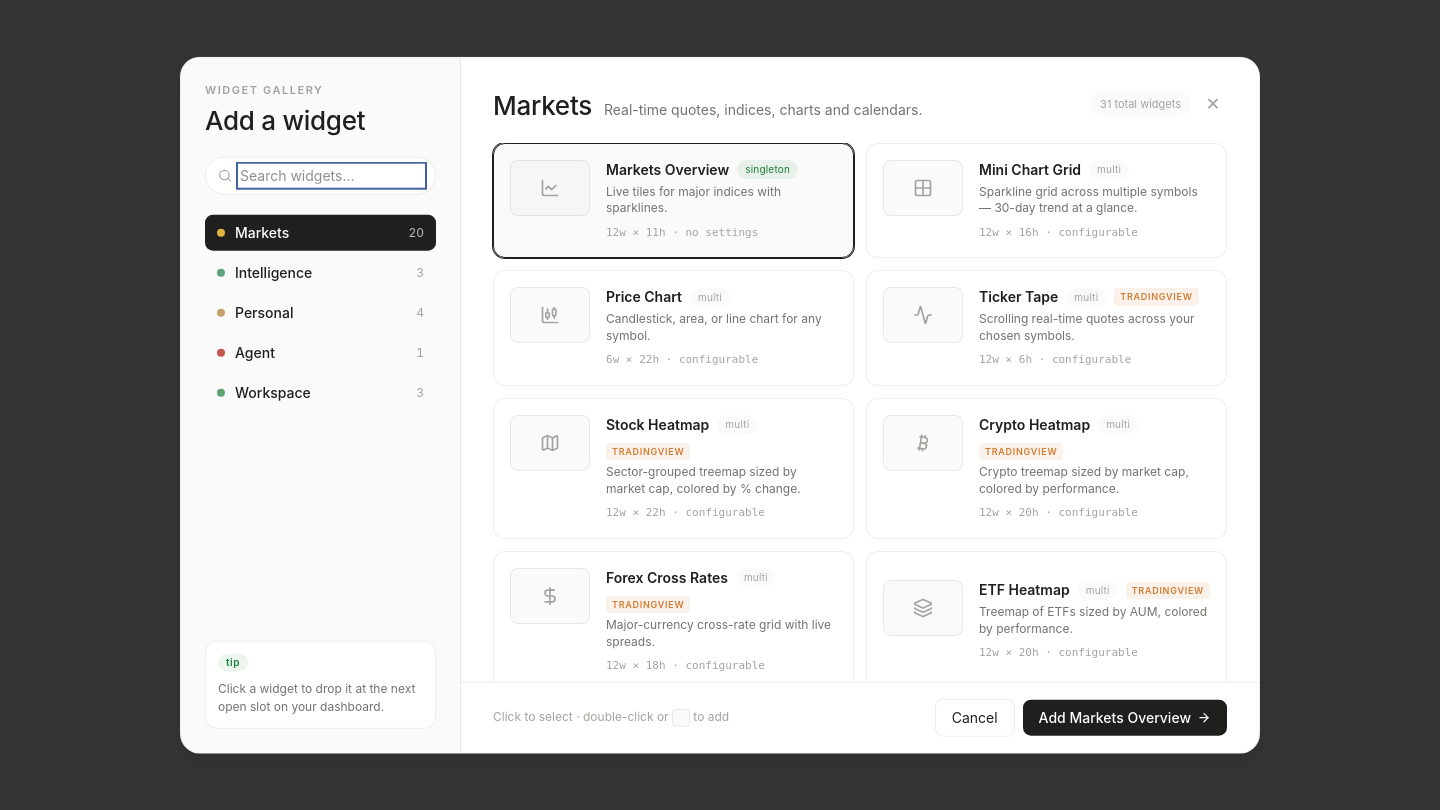
Scenario: AddWidgetDialog › filters widgets by search
In the field with placeholder "Search widgets…": (332, 176) [240,166,423,186], type "ticker tape"
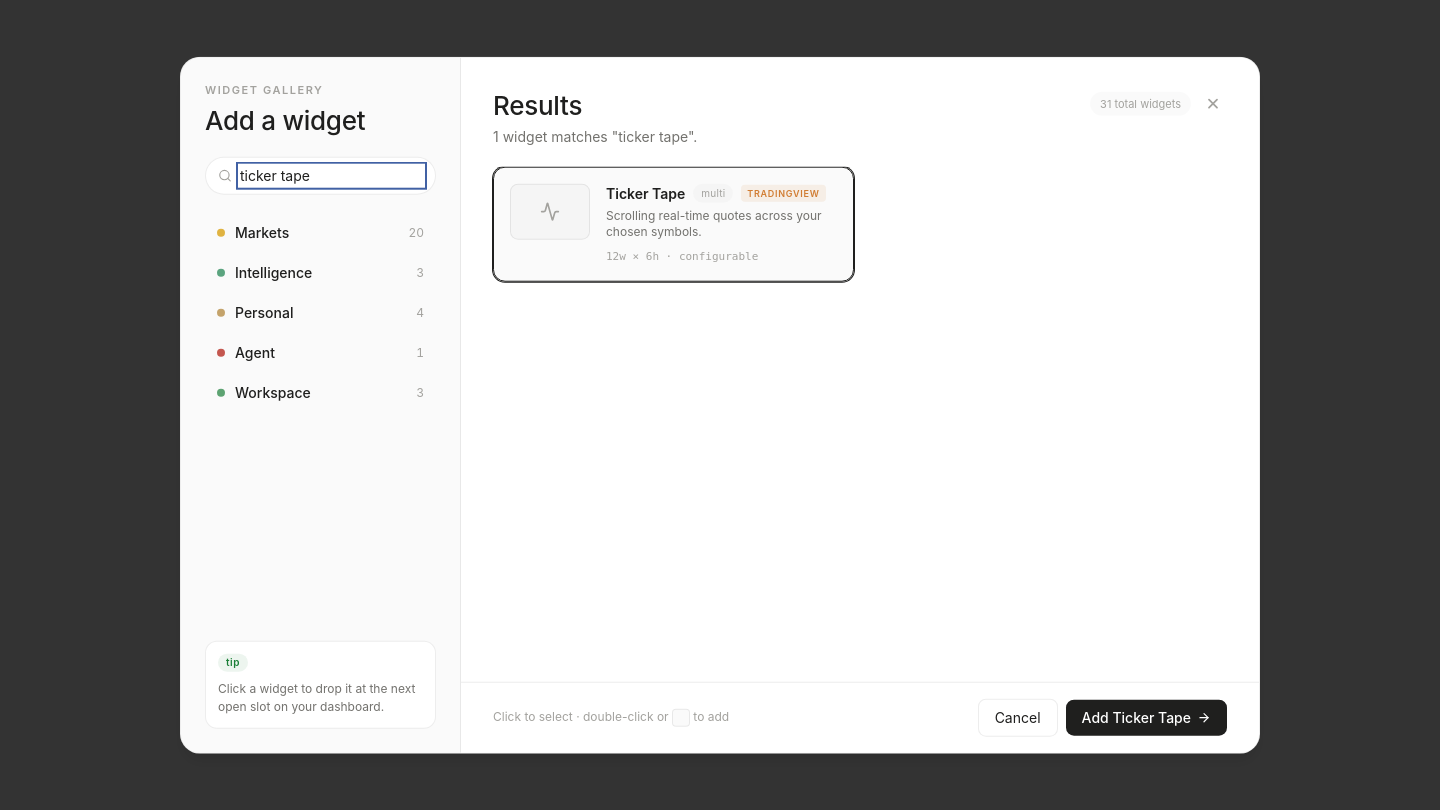
Expected: the text "1 widget matches \"ticker tape\"." is shown, [493,127,697,144]
